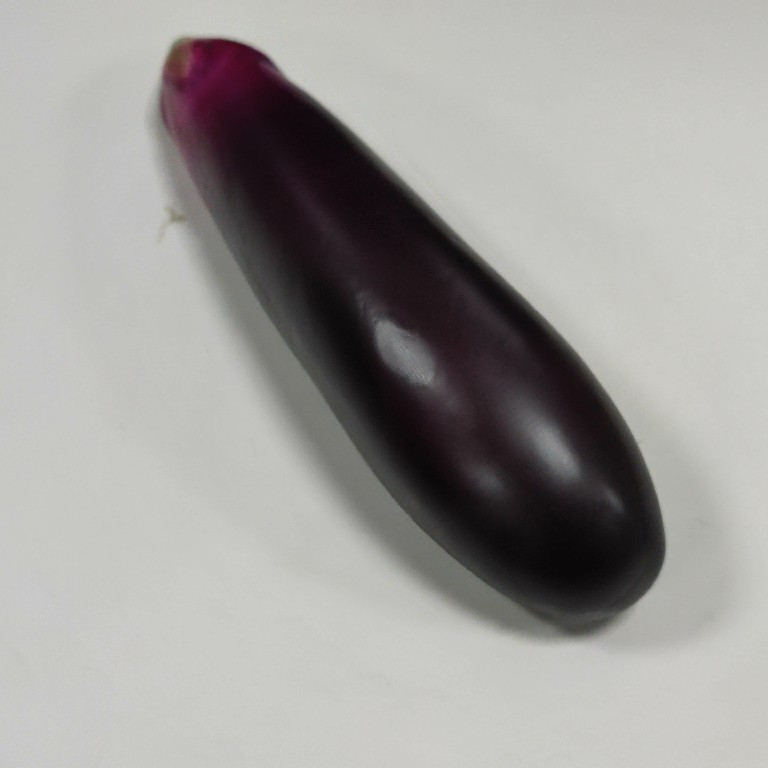fruit_eggplant: (154, 28, 670, 636)
